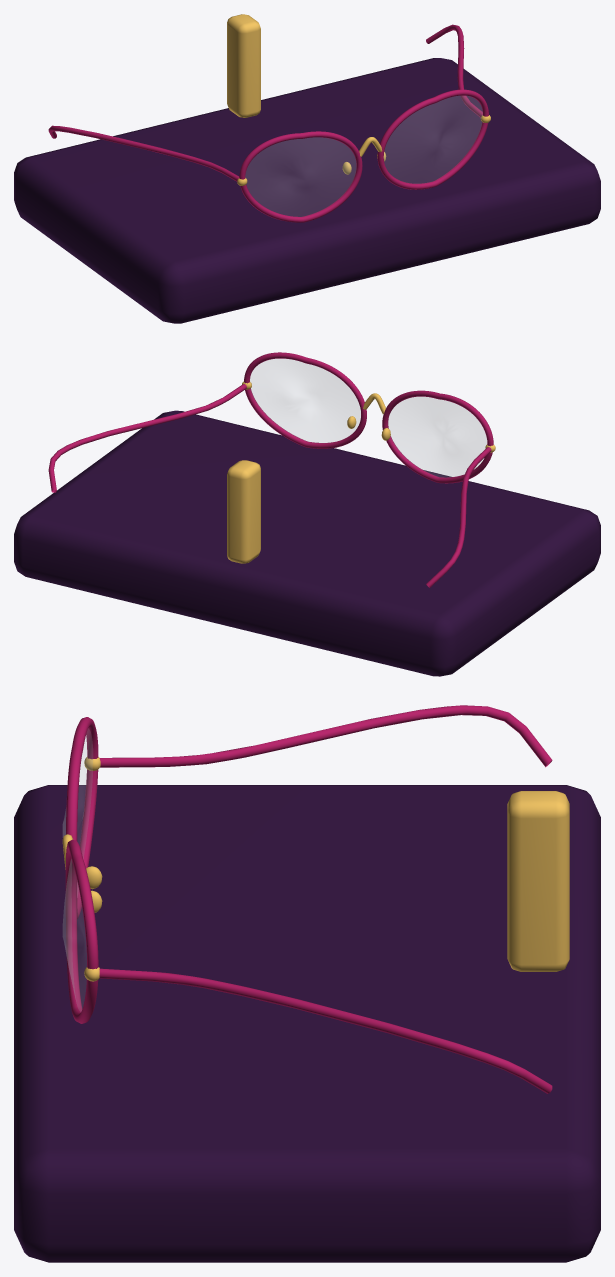
The model's file is rain.acc.cat-eye-frames.glb.
The picture shows the model from 3 angles, top to bottom: view 1: azimuth 30°, elevation 25°; view 2: azimuth 150°, elevation 25°; view 3: azimuth 270°, elevation 25°; orthographic projection. The views are drawn at different scales.
Visible parts, largest first — view 1: jewellery_pad, Fit.Item.cat-eye-frames.Lens0, Fit.Item.cat-eye-frames.Lens1, jewellery_support, Fit.Item.cat-eye-frames.Rim0, Fit.Item.cat-eye-frames.Rim1, Fit.Item.cat-eye-frames.Temple0, Fit.Item.cat-eye-frames.Temple1; view 2: jewellery_pad, Fit.Item.cat-eye-frames.Lens1, Fit.Item.cat-eye-frames.Lens0, jewellery_support, Fit.Item.cat-eye-frames.Rim1, Fit.Item.cat-eye-frames.Rim0, Fit.Item.cat-eye-frames.Temple1, Fit.Item.cat-eye-frames.Temple0; view 3: jewellery_pad, jewellery_support, Fit.Item.cat-eye-frames.Temple0, Fit.Item.cat-eye-frames.Temple1, Fit.Item.cat-eye-frames.Rim1, Fit.Item.cat-eye-frames.Rim0, Fit.Item.cat-eye-frames.Lens1, Fit.Item.cat-eye-frames.Lens0.
Part boxes in pixels (bbox=[...]): jewellery_pad: bbox=[14, 58, 600, 323]; Fit.Item.cat-eye-frames.Lens0: bbox=[246, 138, 355, 216]; Fit.Item.cat-eye-frames.Lens1: bbox=[384, 96, 482, 183]; jewellery_support: bbox=[227, 14, 260, 117]; Fit.Item.cat-eye-frames.Rim0: bbox=[239, 131, 362, 222]; Fit.Item.cat-eye-frames.Rim1: bbox=[377, 89, 488, 189]; Fit.Item.cat-eye-frames.Temple0: bbox=[48, 125, 239, 181]; Fit.Item.cat-eye-frames.Temple1: bbox=[426, 24, 482, 117]; jewellery_pad: bbox=[14, 410, 600, 676]; Fit.Item.cat-eye-frames.Lens1: bbox=[250, 359, 360, 442]; Fit.Item.cat-eye-frames.Lens0: bbox=[388, 397, 486, 476]; jewellery_support: bbox=[227, 460, 260, 563]; Fit.Item.cat-eye-frames.Rim1: bbox=[244, 352, 366, 448]; Fit.Item.cat-eye-frames.Rim0: bbox=[382, 390, 493, 483]; Fit.Item.cat-eye-frames.Temple1: bbox=[48, 384, 246, 492]; Fit.Item.cat-eye-frames.Temple0: bbox=[426, 447, 491, 587]; jewellery_pad: bbox=[14, 785, 600, 1262]; jewellery_support: bbox=[507, 791, 569, 971]; Fit.Item.cat-eye-frames.Temple0: bbox=[99, 705, 552, 767]; Fit.Item.cat-eye-frames.Temple1: bbox=[99, 968, 552, 1093]; Fit.Item.cat-eye-frames.Rim1: bbox=[65, 839, 98, 1023]; Fit.Item.cat-eye-frames.Rim0: bbox=[66, 717, 98, 919]; Fit.Item.cat-eye-frames.Lens1: bbox=[62, 859, 86, 1011]; Fit.Item.cat-eye-frames.Lens0: bbox=[63, 729, 92, 895].
Bounding box in the file's own units: 0.68 × 0.2303 × 0.4308.
